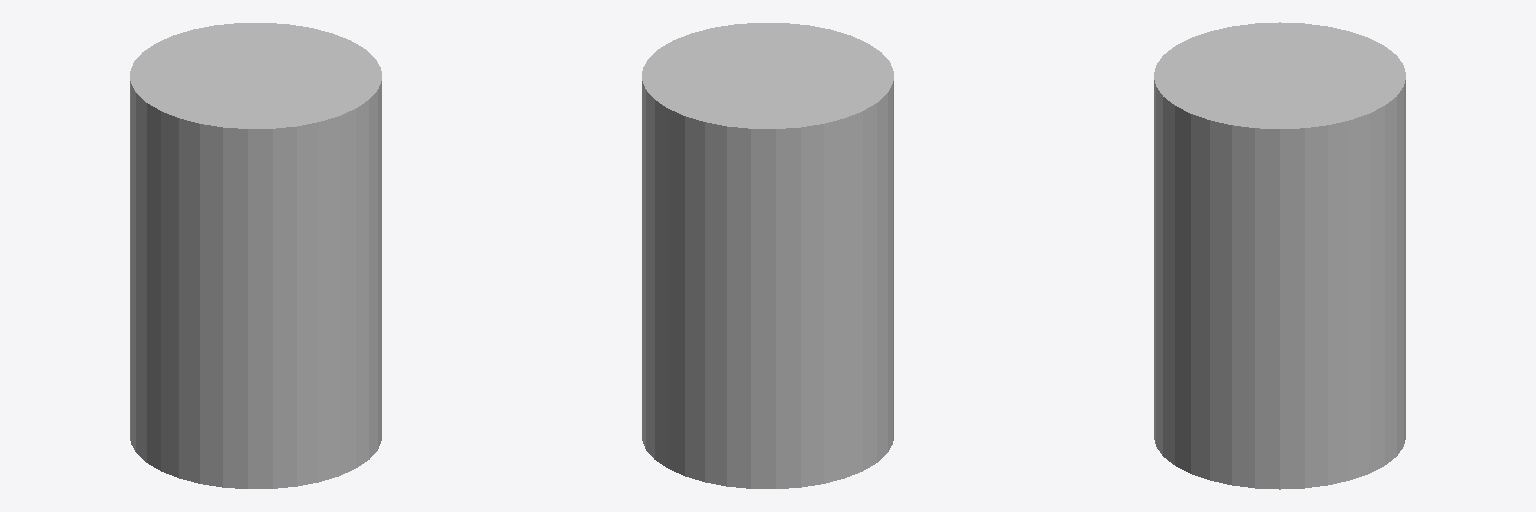
File: test_cyl.obj
3 views of the same model, side by side, from view 1: azimuth 30°, elevation 25°; view 2: azimuth 150°, elevation 25°; view 3: azimuth 270°, elevation 25° (orthographic).
Visible parts, largest first — view 1: Cylinder; view 2: Cylinder; view 3: Cylinder.
Boxes of the visible parts, x1=… form: Cylinder: x1=130, y1=23, x2=381, y2=488; Cylinder: x1=642, y1=23, x2=893, y2=488; Cylinder: x1=1154, y1=22, x2=1405, y2=489.
Size of the model in its own units: 3.58 by 5.63 by 3.58.